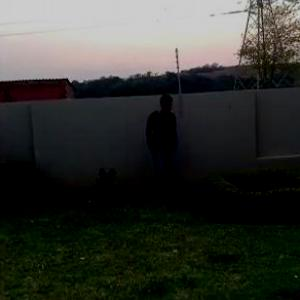follow: (144, 88, 179, 206)
